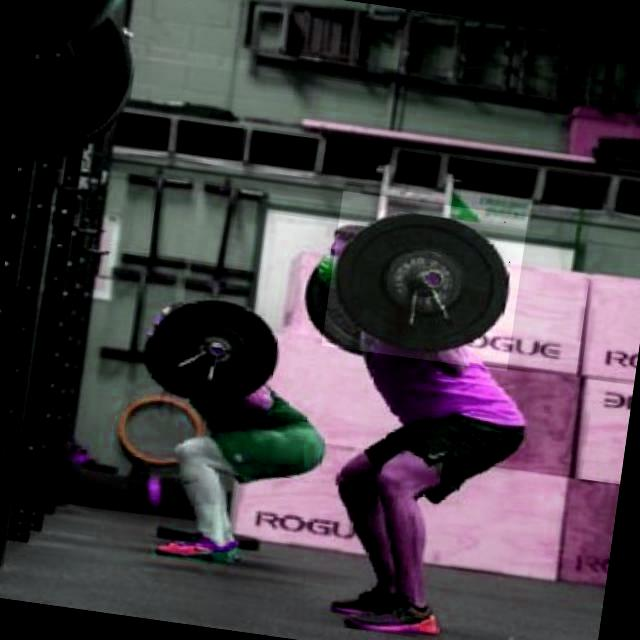barbell: (322, 192, 530, 372)
